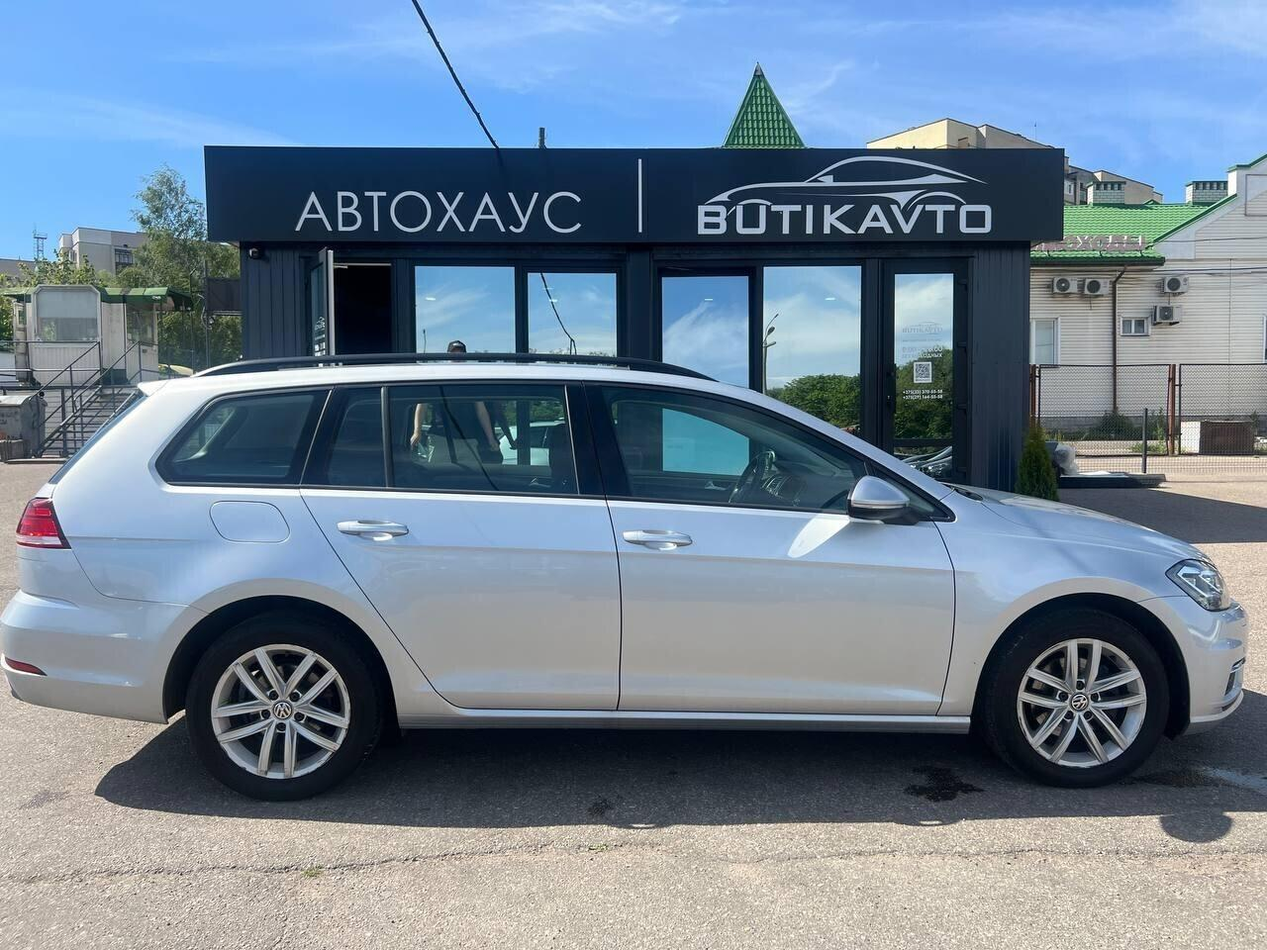Golf_2017-2021: (0, 357, 1250, 799)
